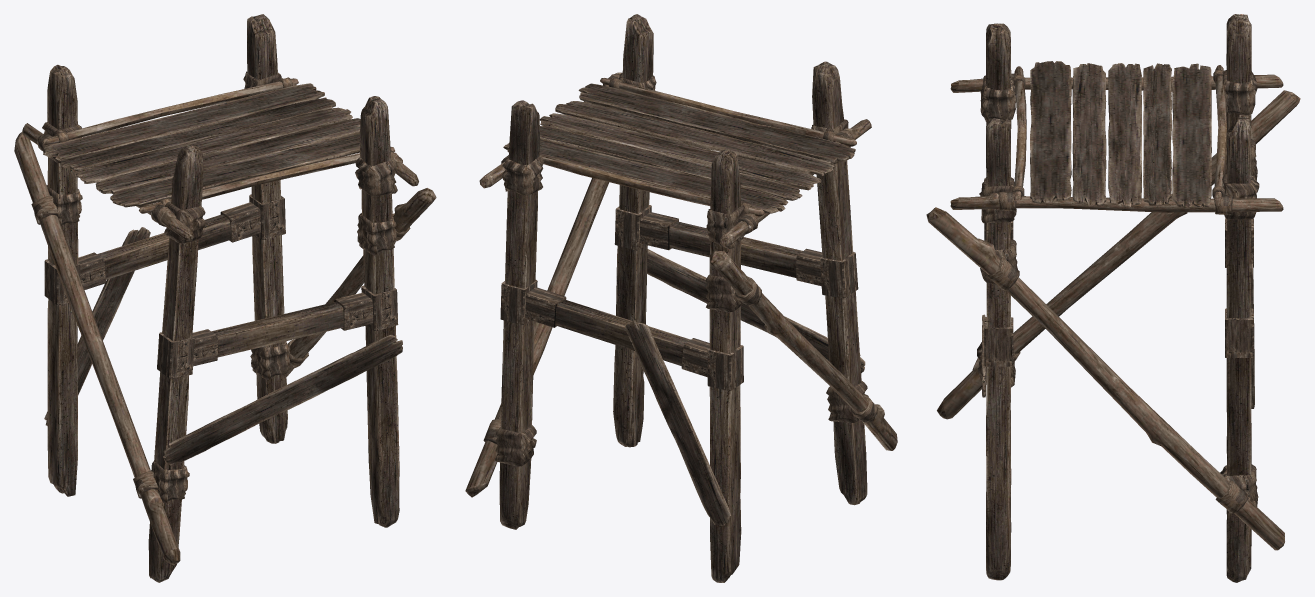
File: Wooden_Tower.fbx
The picture shows the model from 3 angles, left to right: view 1: azimuth 30°, elevation 25°; view 2: azimuth 150°, elevation 25°; view 3: azimuth 270°, elevation 25°; orthographic projection. The views are drawn at different scales.
Parts seen in each view (by area): view 1: wooden_tower:polySurface340_3; view 2: wooden_tower:polySurface340_3; view 3: wooden_tower:polySurface340_3.
Boxes of the visible parts, x1=… form: wooden_tower:polySurface340_3: x1=14, y1=14, x2=436, y2=582; wooden_tower:polySurface340_3: x1=465, y1=14, x2=897, y2=582; wooden_tower:polySurface340_3: x1=926, y1=14, x2=1300, y2=582.
Size of the model in its own units: 29.81 by 44.07 by 32.72.
1 material, 1 textured.
